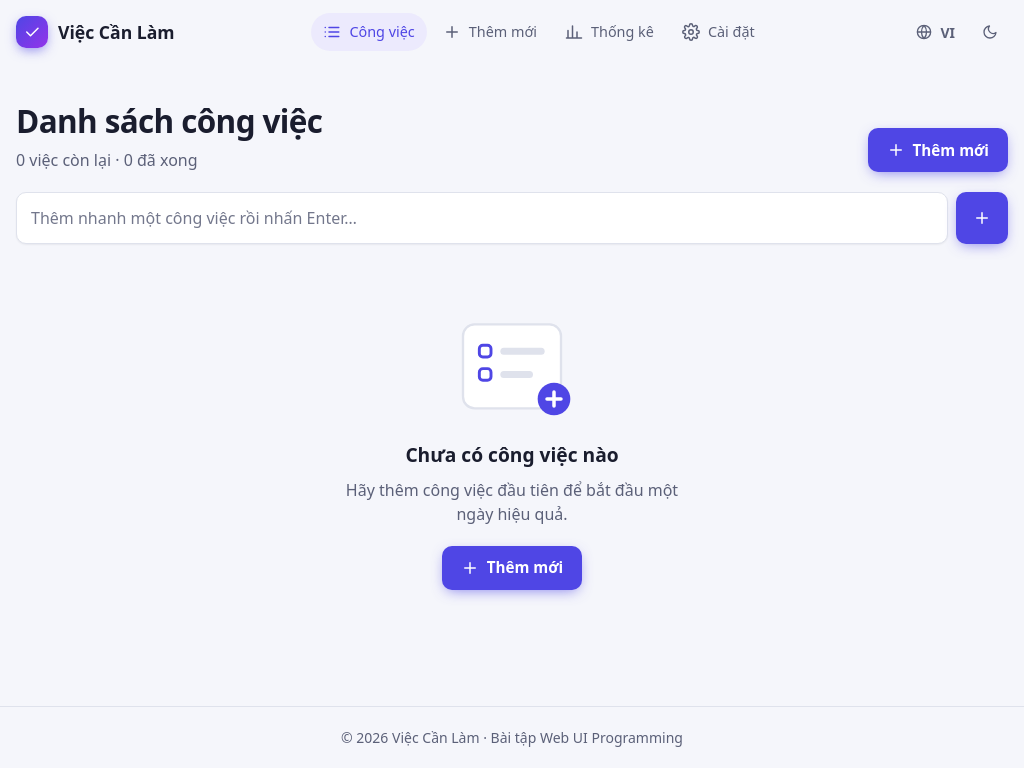
Test: Todo App (UI) › thêm nhanh công việc và lưu vào localStorage
In the field named "Thêm nhanh công việc": (482,218) [16, 192, 948, 244], type "Mua sữa"
Then press Enter
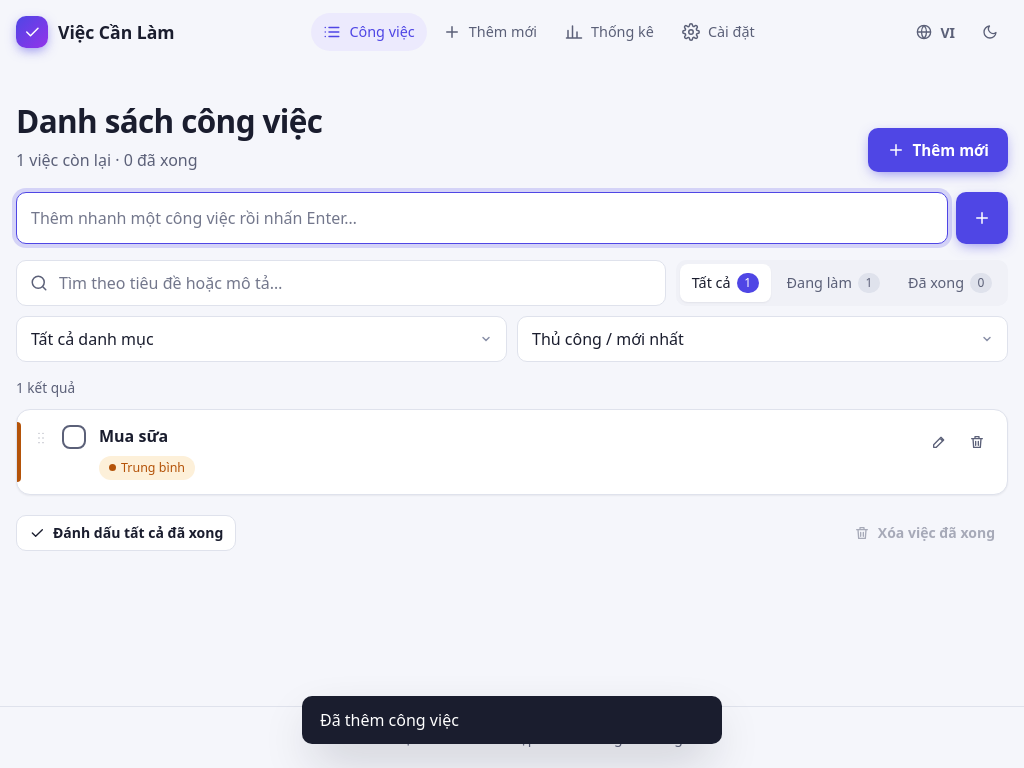
expect the link "Mua sữa" is shown: met, box [99, 424, 168, 448]
